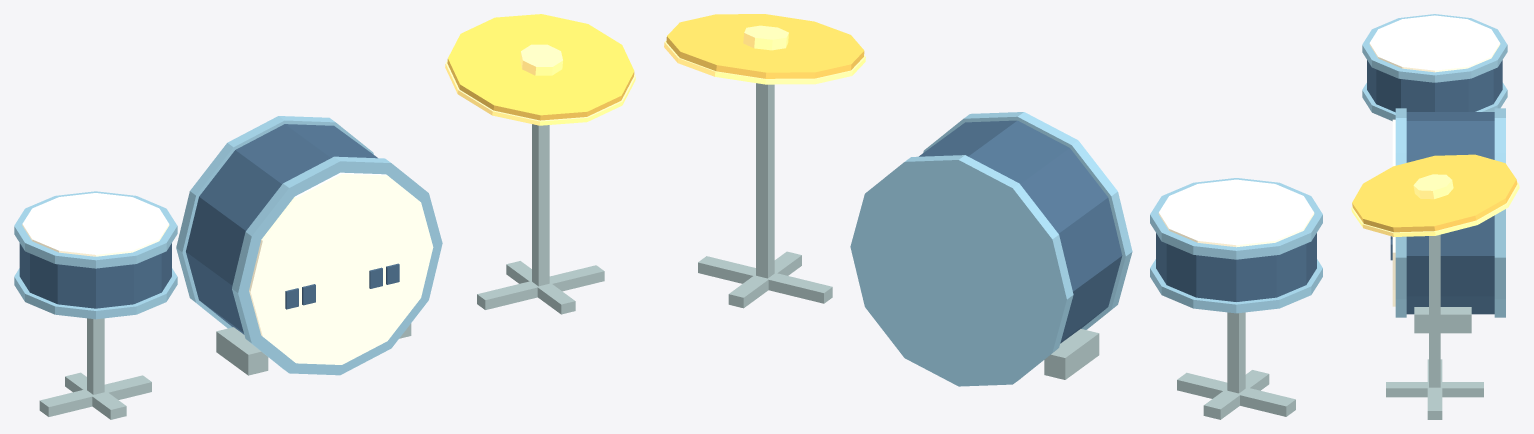
Rendered from Clawd-Drumkit.glb.
3 views of the same model, side by side, from view 1: azimuth 30°, elevation 25°; view 2: azimuth 150°, elevation 25°; view 3: azimuth 270°, elevation 25° (orthographic). The views are drawn at different scales.
Visible parts, largest first — view 1: Kick / front skin, Cymbal / Brass disk, Kick / shell, Kick / front rim, Snare / Ivory skin, Snare / Blue shell, Kick / rear rim, Snare / Light rim.001, Cymbal / Stand, Snare / Light rim, Cymbal / Base, Snare / Base (+6 smaller); view 2: Kick / rear rim, Kick / shell, Cymbal / Brass disk, Snare / Ivory skin, Snare / Blue shell, Cymbal / Stand, Kick / front rim, Snare / Light rim.001, Snare / Light rim, Cymbal / Base, Snare / Base, Kick / Ground foot (+5 smaller); view 3: Kick / shell, Cymbal / Brass disk, Snare / Ivory skin, Snare / Blue shell, Snare / Light rim.001, Kick / rear rim, Cymbal / Stand, Kick / front rim, Cymbal / Base cross, Kick / Ground foot.001, Cymbal / Bright rim, Cymbal / Raised bell (+3 smaller).
Part boxes in pixels (x1,y1,x2,y2): Kick / front skin: (249, 172, 433, 364); Cymbal / Brass disk: (447, 14, 634, 120); Kick / shell: (186, 124, 377, 334); Kick / front rim: (232, 156, 442, 375); Snare / Ivory skin: (22, 193, 169, 256); Snare / Blue shell: (19, 243, 171, 308); Kick / rear rim: (176, 116, 373, 328); Snare / Light rim.001: (14, 191, 177, 268); Cymbal / Stand: (532, 124, 549, 286); Snare / Light rim: (14, 268, 177, 319); Cymbal / Base: (477, 265, 604, 309); Snare / Base: (39, 375, 151, 416); Kick / rear rim: (850, 155, 1073, 386); Kick / shell: (919, 120, 1122, 343); Cymbal / Brass disk: (666, 14, 864, 78); Snare / Ivory skin: (1158, 179, 1314, 247); Snare / Blue shell: (1156, 233, 1316, 301); Cymbal / Stand: (756, 83, 774, 278); Kick / front rim: (923, 112, 1132, 329); Snare / Light rim.001: (1150, 178, 1322, 259); Snare / Light rim: (1150, 259, 1322, 313); Cymbal / Base: (698, 256, 832, 303); Snare / Base: (1177, 372, 1295, 416); Kick / Ground foot: (1044, 329, 1099, 379); Kick / shell: (1406, 112, 1494, 314); Cymbal / Brass disk: (1352, 154, 1517, 232); Snare / Ivory skin: (1369, 15, 1500, 72); Snare / Blue shell: (1367, 60, 1502, 112); Snare / Light rim.001: (1362, 14, 1507, 82); Kick / rear rim: (1494, 108, 1505, 317); Cymbal / Stand: (1429, 234, 1440, 387); Kick / front rim: (1395, 108, 1406, 317); Cymbal / Base cross: (1386, 382, 1483, 397); Kick / Ground foot.001: (1414, 307, 1471, 333); Cymbal / Bright rim: (1351, 181, 1519, 236); Cymbal / Raised bell: (1413, 174, 1453, 199).
Bounding box in the file's own units: 7.53 × 3.05 × 2.06.
